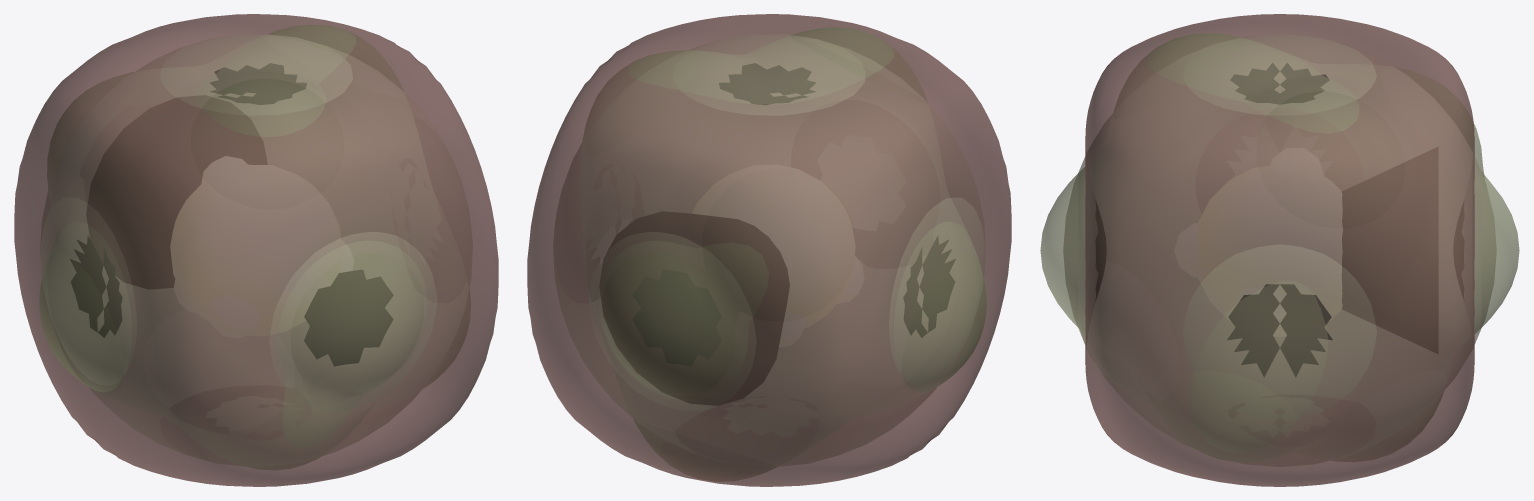
File: SYM_Symbols3.fbx
3 views of the same model, side by side, from view 1: azimuth 30°, elevation 25°; view 2: azimuth 150°, elevation 25°; view 3: azimuth 270°, elevation 25° (orthographic).
Visible parts, largest first — view 1: SYM3_Absorber, SYM3_NormalSoul, SYM3_Replicator; view 2: SYM3_Absorber, SYM3_NormalSoul, SYM3_Replicator; view 3: SYM3_Absorber, SYM3_NormalSoul, SYM3_Replicator.
Boxes of the visible parts, box(x1,y1,x2,y2) form: SYM3_Absorber: box(14, 14, 498, 486); SYM3_NormalSoul: box(40, 34, 472, 465); SYM3_Replicator: box(39, 24, 470, 470); SYM3_Absorber: box(527, 14, 1011, 486); SYM3_NormalSoul: box(553, 34, 985, 466); SYM3_Replicator: box(581, 27, 986, 476); SYM3_Absorber: box(1085, 14, 1474, 486); SYM3_NormalSoul: box(1063, 34, 1496, 466); SYM3_Replicator: box(1040, 33, 1519, 462).
Size of the model in its own units: 105 by 100 by 110.
